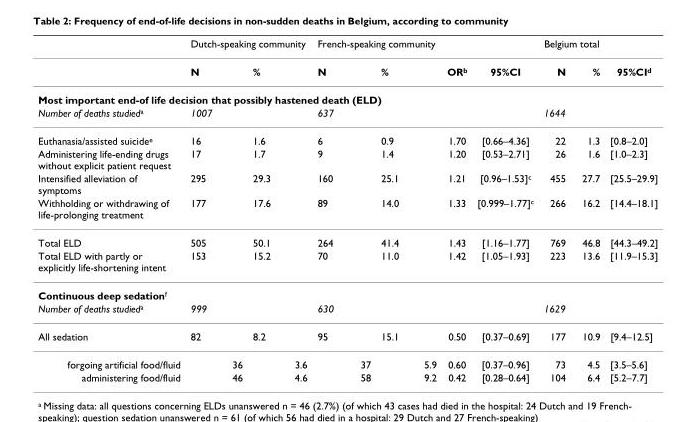table: (37, 37, 657, 383)
table column: (37, 37, 184, 383), (375, 37, 441, 383), (471, 37, 537, 383), (247, 37, 311, 383), (311, 37, 375, 383), (184, 37, 247, 383), (604, 37, 657, 383), (537, 37, 573, 383), (573, 37, 604, 383), (441, 37, 471, 383)
table column header: (37, 37, 657, 85)
table projected row header: (37, 280, 657, 301), (37, 85, 657, 105)
table row: (37, 196, 657, 228), (37, 248, 657, 280), (37, 57, 657, 85), (37, 322, 657, 350), (37, 146, 657, 171), (37, 171, 657, 196), (37, 105, 657, 126), (37, 280, 657, 301), (37, 301, 657, 322), (37, 37, 657, 57), (37, 85, 657, 105), (37, 126, 657, 146), (37, 228, 657, 248), (37, 350, 657, 370), (37, 370, 657, 383)
table spanning cell: (471, 37, 537, 85), (311, 105, 441, 126), (311, 301, 441, 322), (184, 105, 311, 126), (184, 301, 311, 322), (311, 37, 441, 57), (604, 37, 657, 85), (184, 37, 311, 57), (441, 37, 471, 85), (537, 105, 604, 126), (537, 301, 604, 322), (537, 37, 604, 57)
